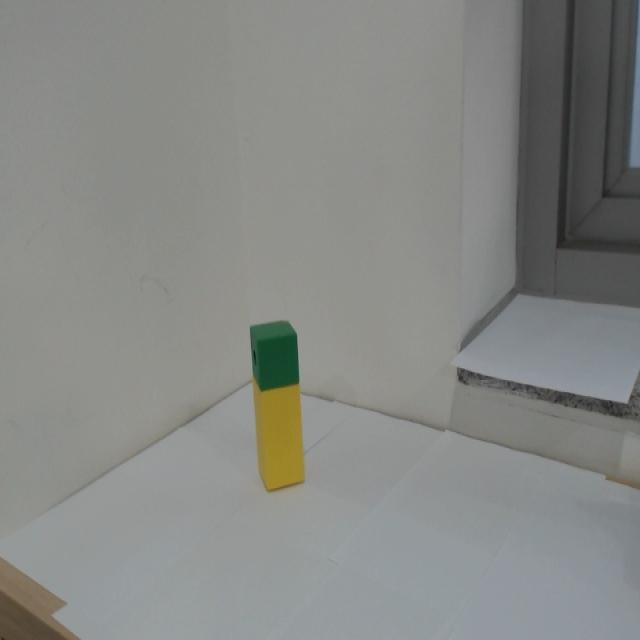cube: (249, 315, 301, 394)
